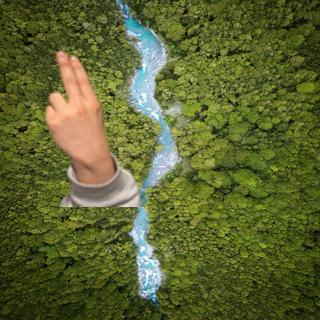DHAVE: (39, 47, 112, 165)
